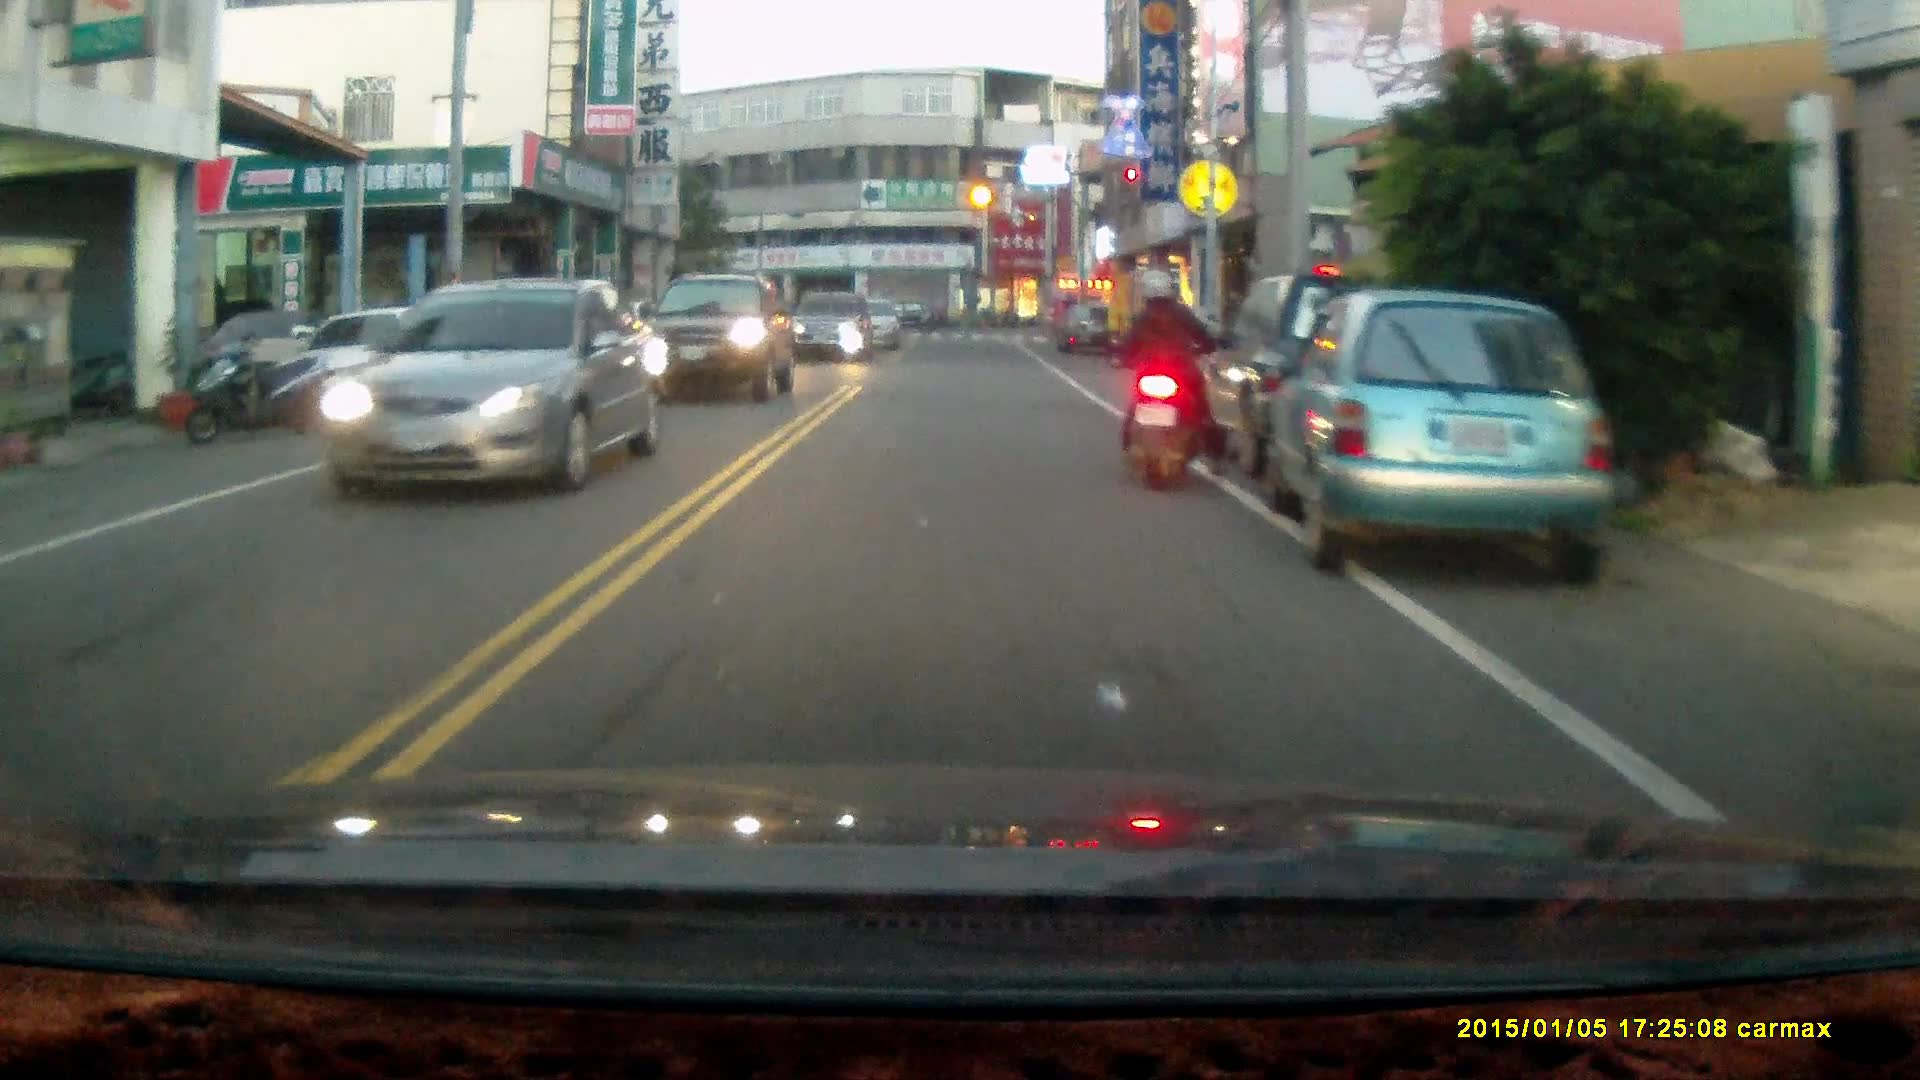rider: (1118, 265, 1224, 488)
vehicle: (1263, 289, 1613, 587), (319, 280, 665, 501), (1175, 269, 1486, 479), (272, 307, 481, 418), (639, 272, 795, 398), (787, 295, 876, 362)
